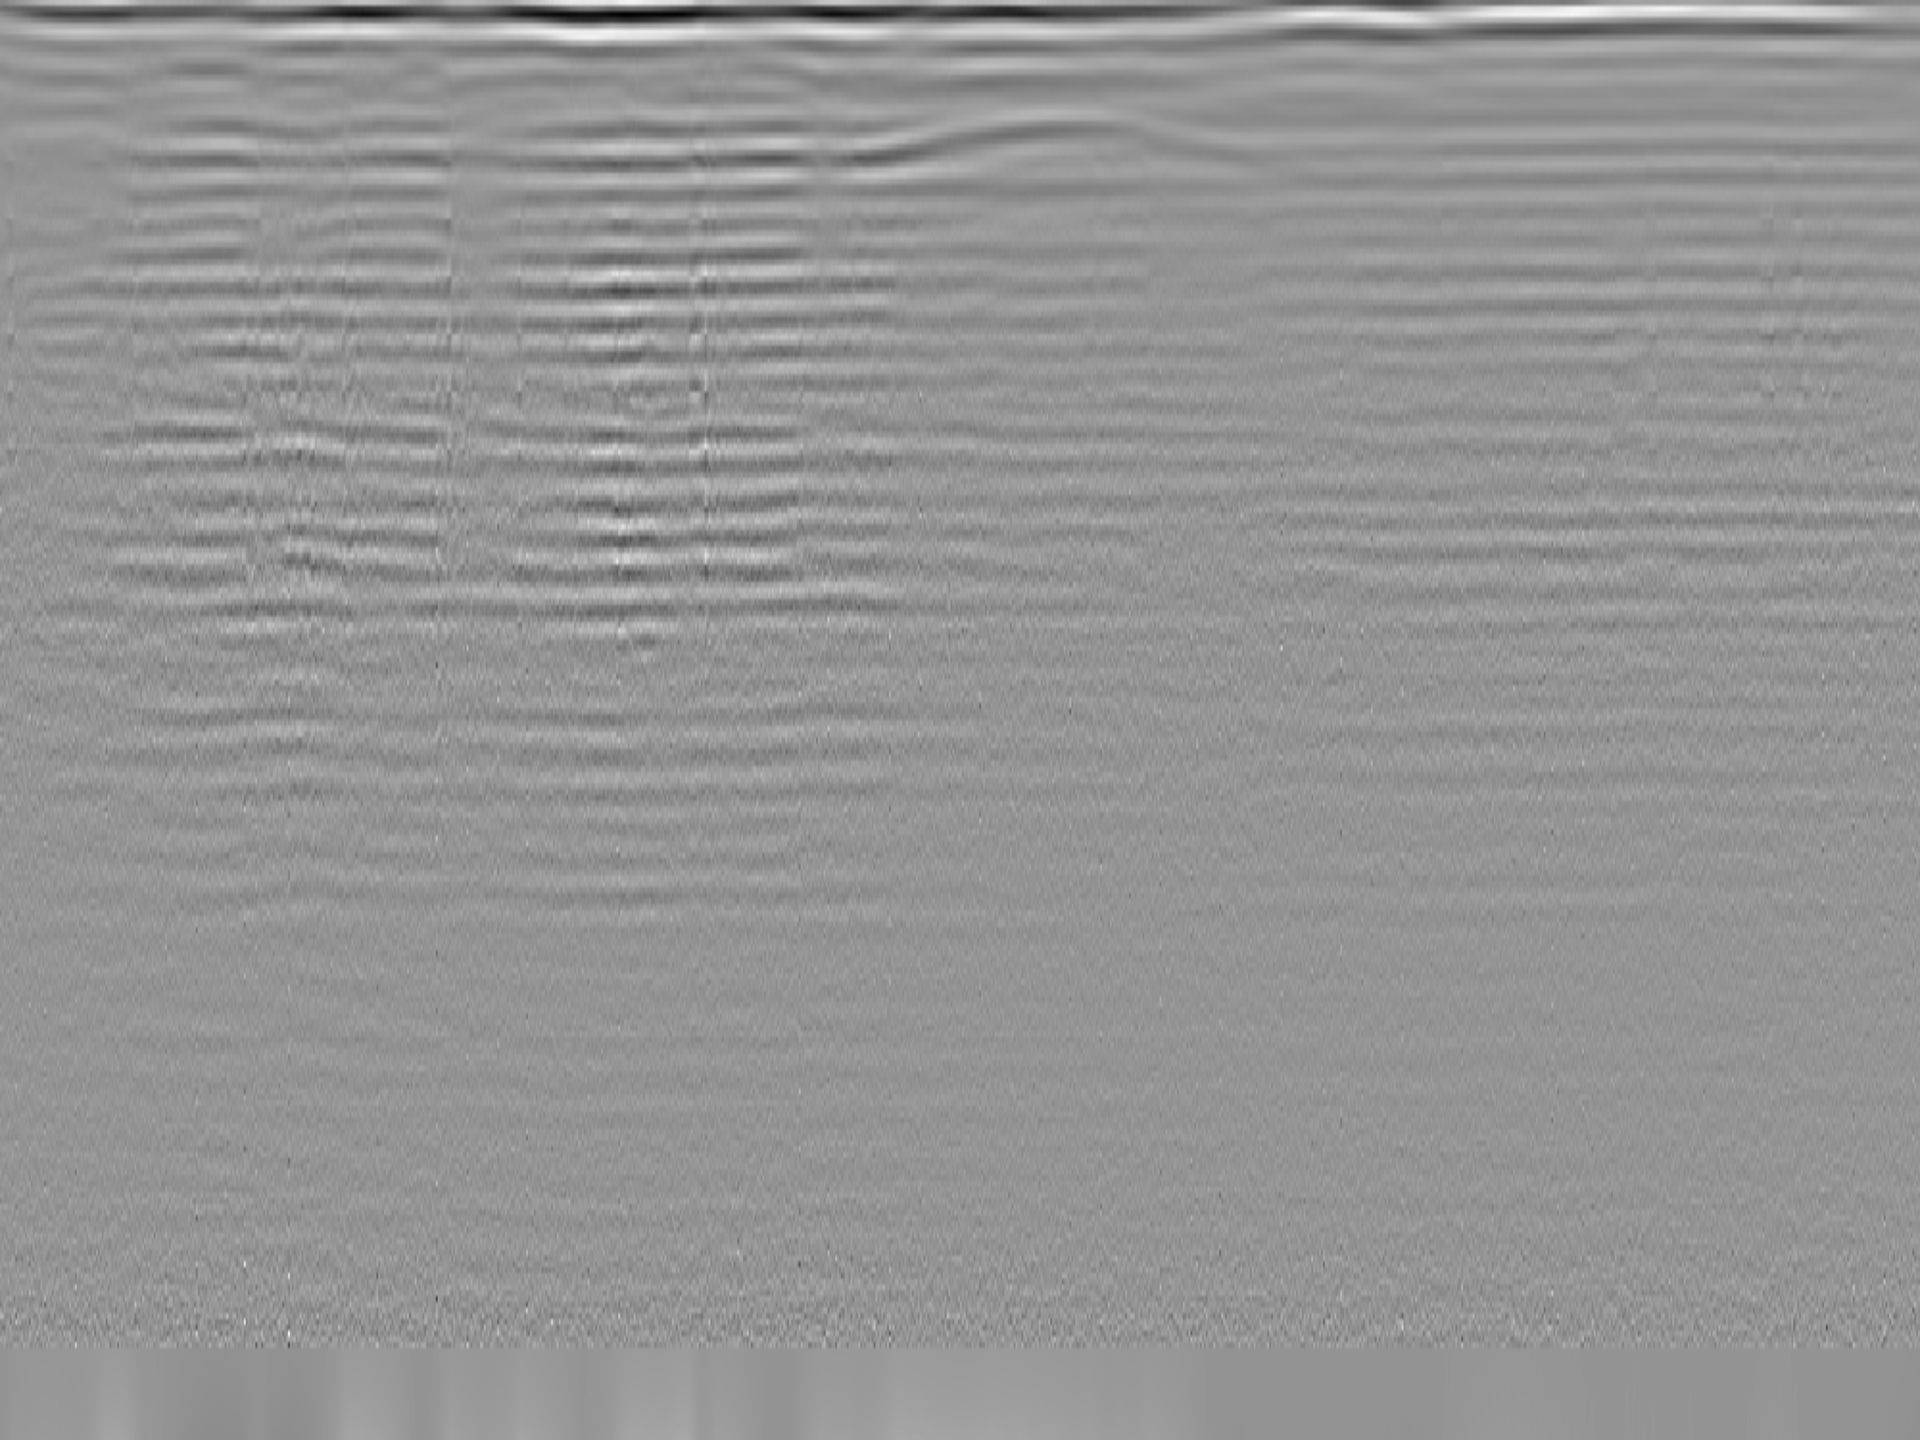Tunnel: (845, 109, 1259, 166)
